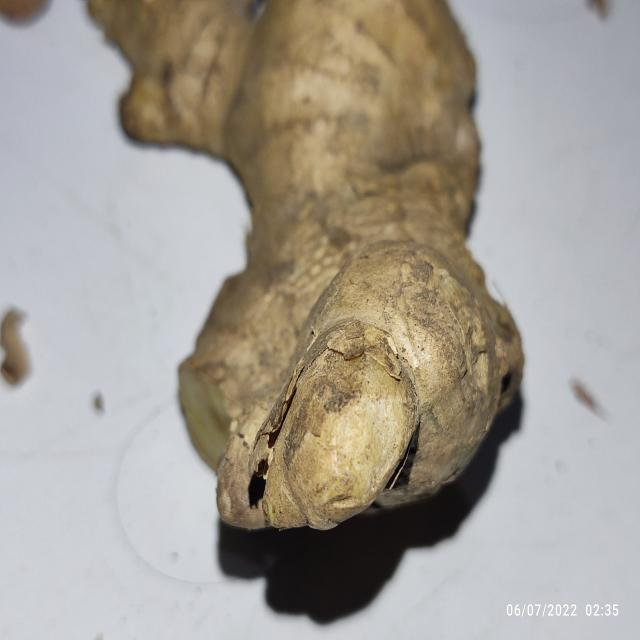ginger: (159, 0, 512, 524)
